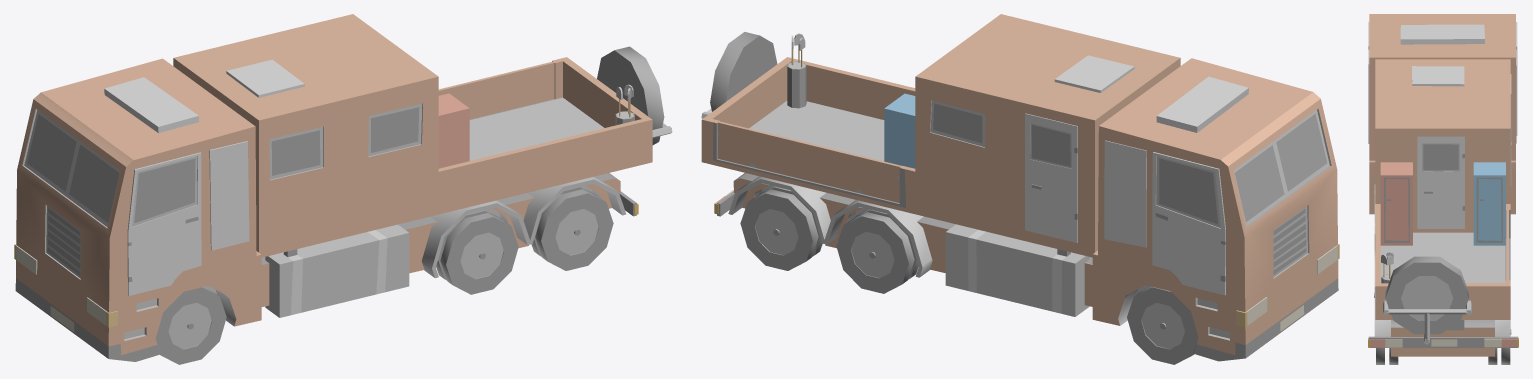
The model's file is kar1.fbx.
3 renders of one model, left to right at view 1: azimuth 30°, elevation 25°; view 2: azimuth 150°, elevation 25°; view 3: azimuth 270°, elevation 25°, orthographic. The views are drawn at different scales.
Parts seen in each view (by area): view 1: Cylinder_7, Extrude_1_1, Cylinder_4_1, Cylinder_3_1, Cylinder_1_1, Cube_1; view 2: Cylinder_7, Extrude_2_1, Cube_1, Cube_5, Cylinder_5_1, Cylinder_1, Cylinder_2_1; view 3: Cylinder_7, Cube_5_1, Cylinder_1, Cylinder_3_1, Extrude_2_1, Cube_5, Cube_1.
Part boxes in pixels (box(x1,y1,x2,y2)): Cylinder_7: box(14, 14, 672, 361); Extrude_1_1: box(127, 152, 201, 295); Cylinder_4_1: box(436, 210, 518, 294); Cylinder_3_1: box(531, 186, 613, 270); Cylinder_1_1: box(155, 287, 226, 364); Cube_1: box(438, 61, 554, 119); Cylinder_7: box(701, 14, 1339, 361); Extrude_2_1: box(1152, 152, 1225, 295); Cube_1: box(718, 121, 901, 202); Cube_5: box(1025, 113, 1077, 242); Cylinder_5_1: box(836, 209, 918, 293); Cylinder_1: box(740, 186, 822, 270); Cylinder_2_1: box(1127, 286, 1198, 364); Cylinder_7: box(1368, 14, 1518, 356); Cube_5_1: box(1417, 136, 1464, 228); Cylinder_1: box(1488, 329, 1511, 364); Cylinder_3_1: box(1376, 348, 1398, 364); Extrude_2_1: box(1516, 22, 1517, 135); Cube_5: box(1510, 74, 1511, 185); Cube_1: box(1506, 210, 1508, 280).
Size of the model in its own units: 870 by 333 by 251.
